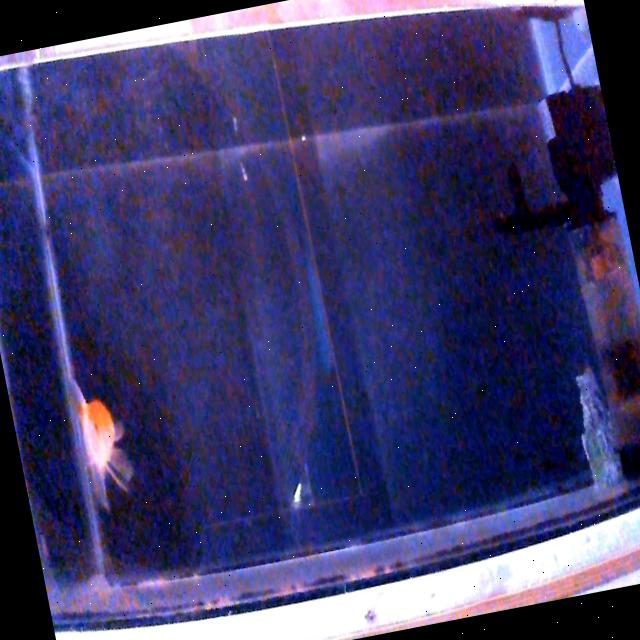fish: (74, 388, 142, 507)
